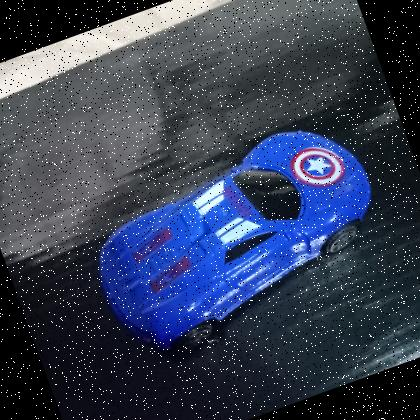Car: (65, 100, 413, 378)
